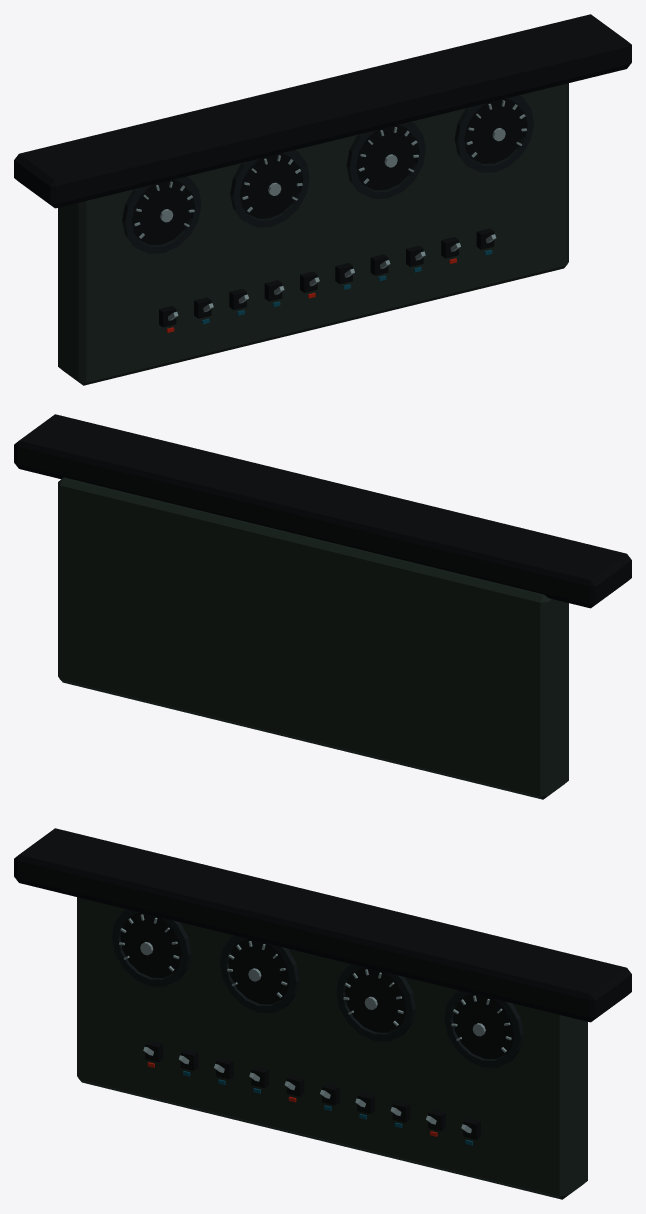
The model's file is Cockpit_FixedWing__Panel.obj.
3 renders of one model, top to bottom at view 1: azimuth 30°, elevation 25°; view 2: azimuth 150°, elevation 25°; view 3: azimuth 330°, elevation 25°, orthographic.
Parts seen in each view (by area): view 1: Main_panel, Glare_shield, Fuel_face, Altitude_face, Speed_face, Engine_face, Altitude_bezel, Fuel_bezel, Engine_bezel, Speed_bezel; view 2: Main_panel, Glare_shield; view 3: Main_panel, Glare_shield, Speed_face, Engine_face, Altitude_face, Fuel_face, Speed_bezel, Engine_bezel, Altitude_bezel, Fuel_bezel.
Part boxes in pixels (box(x1,y1,x2,y2)): Main_panel: box(58, 83, 568, 385); Glare_shield: box(14, 14, 631, 208); Fuel_face: box(464, 98, 525, 163); Altitude_face: box(240, 153, 300, 218); Speed_face: box(131, 179, 192, 244); Engine_face: box(356, 125, 417, 190); Altitude_bezel: box(230, 150, 309, 227); Fuel_bezel: box(454, 95, 533, 172); Engine_bezel: box(346, 121, 425, 198); Speed_bezel: box(122, 176, 201, 253); Main_panel: box(58, 477, 568, 799); Glare_shield: box(14, 414, 631, 608); Main_panel: box(77, 897, 587, 1199); Glare_shield: box(14, 828, 631, 1022); Speed_face: box(120, 912, 181, 977); Engine_face: box(345, 967, 405, 1032); Altitude_face: box(228, 939, 289, 1004); Fuel_face: box(453, 993, 514, 1058); Speed_bezel: box(112, 909, 191, 986); Engine_bezel: box(336, 964, 415, 1041); Altitude_bezel: box(220, 935, 299, 1012); Fuel_bezel: box(444, 990, 523, 1067).
Size of the model in its own units: 1.4 by 0.5275 by 0.175.
